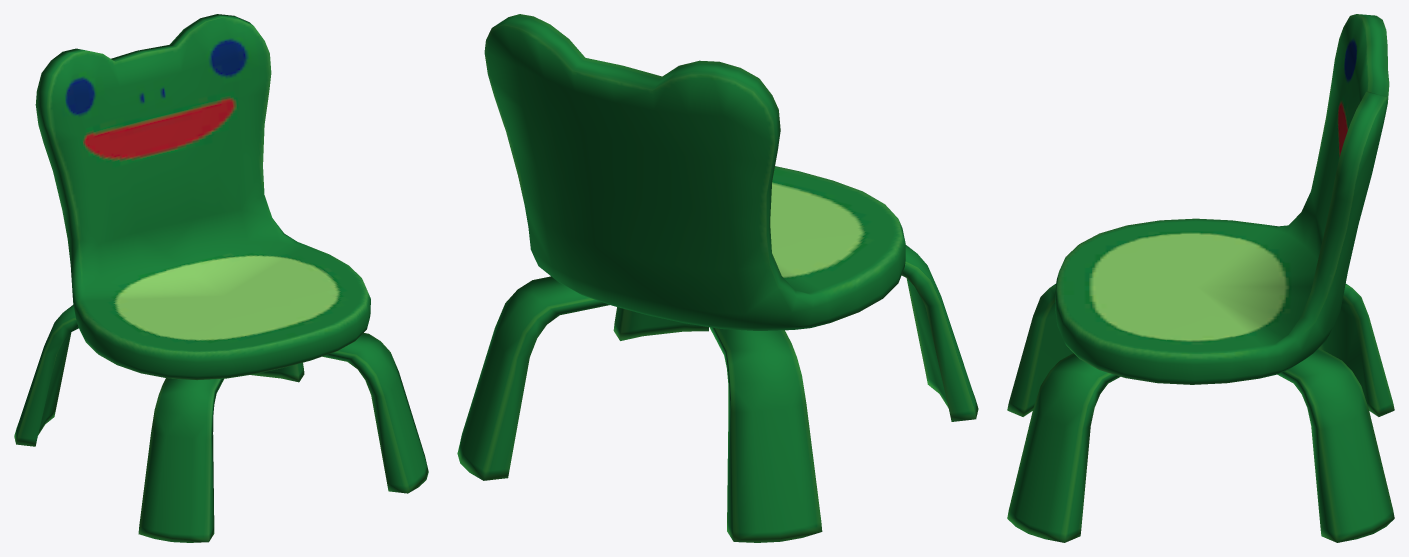
The model's file is FroggyChair.fbx.
3 views of the same model, side by side, from view 1: azimuth 30°, elevation 25°; view 2: azimuth 150°, elevation 25°; view 3: azimuth 270°, elevation 25° (orthographic). The views are drawn at different scales.
Visible parts, largest first — view 1: Leg_A_low__mReBody; view 2: Leg_A_low__mReBody; view 3: Leg_A_low__mReBody.
Part boxes in pixels (bbox=[...]): Leg_A_low__mReBody: bbox=[14, 14, 428, 542]; Leg_A_low__mReBody: bbox=[457, 14, 978, 542]; Leg_A_low__mReBody: bbox=[1007, 14, 1394, 542].
Size of the model in its own units: 7.09 by 8.58 by 7.41.
